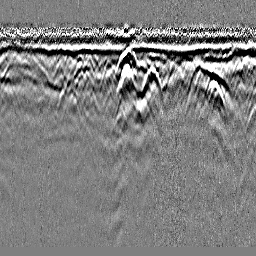cavity: (113, 43, 139, 74)
